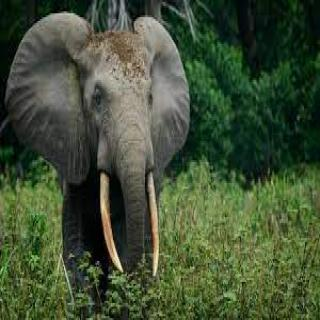Elephant: (3, 2, 206, 297)
